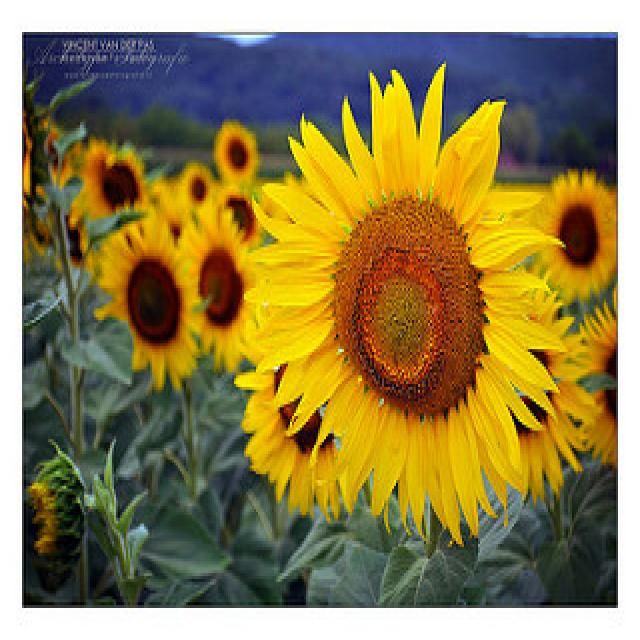sunflower: (209, 54, 575, 551), (219, 345, 365, 513), (92, 210, 208, 394), (177, 204, 261, 367), (532, 159, 617, 304), (75, 133, 151, 235), (204, 114, 262, 189), (178, 164, 215, 214)
